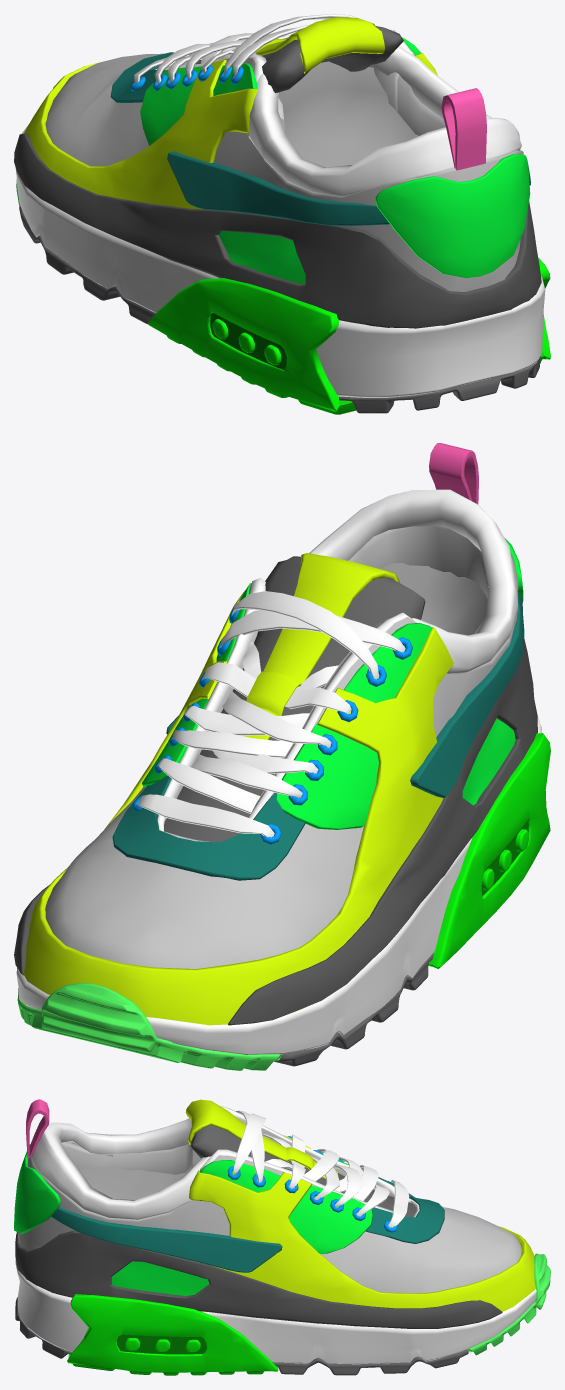
Rendered from Air_Max.fbx.
The picture shows the model from 3 angles, top to bottom: view 1: azimuth 30°, elevation 25°; view 2: azimuth 150°, elevation 25°; view 3: azimuth 270°, elevation 25°; orthographic projection. The views are drawn at different scales.
Visible parts, largest first — view 1: Shose_Body5, Side_Top, Sole_Middel, Shose_Back4, Shose_Nick, Bottom_Shose, Shose_Under_Plane, Logo, Sole_down, Lace, Upper_Toung, Side_Part (+6 smaller); view 2: Shose_Body5, Bottom_Shose, Lace, Side_Top, Shose_Nick, Side_Part, Sole_Middel, Sole_Bottom, Top, Upper_Toung, Shose_Toung, Logo (+5 smaller); view 3: Shose_Body5, Side_Top, Bottom_Shose, Sole_Middel, Shose_Nick, Logo, Lace, Side_Part, Shose_Under_Plane, Side_Plane, Shose_Back4, Sole_down (+7 smaller).
Part boxes in pixels (bbox=[...]): Shose_Body5: bbox=[15, 28, 545, 397]; Side_Top: bbox=[14, 133, 541, 328]; Sole_Middel: bbox=[148, 258, 550, 414]; Shose_Back4: bbox=[375, 154, 530, 277]; Shose_Nick: bbox=[248, 46, 521, 196]; Bottom_Shose: bbox=[24, 53, 437, 209]; Shose_Under_Plane: bbox=[278, 61, 418, 167]; Logo: bbox=[167, 151, 530, 225]; Sole_down: bbox=[19, 206, 540, 413]; Lace: bbox=[134, 14, 357, 84]; Upper_Toung: bbox=[255, 17, 384, 73]; Side_Part: bbox=[140, 37, 421, 145]; Shose_Body5: bbox=[16, 526, 541, 1054]; Bottom_Shose: bbox=[23, 590, 453, 1025]; Lace: bbox=[137, 591, 405, 837]; Side_Top: bbox=[14, 638, 537, 1025]; Shose_Nick: bbox=[309, 489, 518, 673]; Side_Part: bbox=[142, 583, 432, 829]; Sole_Middel: bbox=[428, 733, 550, 968]; Sole_Bottom: bbox=[17, 983, 281, 1070]; Top: bbox=[112, 775, 305, 880]; Upper_Toung: bbox=[242, 553, 399, 739]; Shose_Toung: bbox=[164, 556, 425, 842]; Logo: bbox=[166, 592, 524, 797]; Shose_Body5: bbox=[15, 1106, 536, 1364]; Side_Top: bbox=[15, 1230, 502, 1328]; Bottom_Shose: bbox=[189, 1135, 535, 1311]; Sole_Middel: bbox=[67, 1294, 278, 1375]; Shose_Nick: bbox=[31, 1118, 210, 1219]; Logo: bbox=[51, 1206, 282, 1272]; Lace: bbox=[232, 1110, 409, 1227]; Side_Part: bbox=[199, 1152, 372, 1253]; Shose_Under_Plane: bbox=[71, 1142, 194, 1199]; Side_Plane: bbox=[111, 1261, 209, 1295]; Shose_Back4: bbox=[14, 1144, 60, 1234]; Sole_down: bbox=[15, 1297, 468, 1375].
Bounding box in the file's own units: 1.01 × 1.13 × 2.34.
